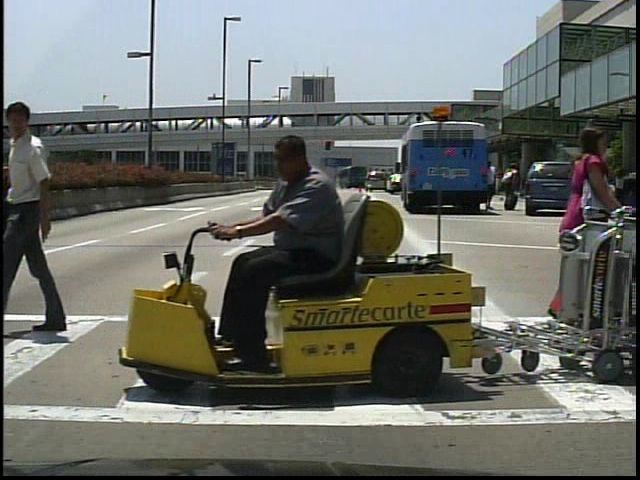person: (217, 134, 353, 373), (8, 100, 80, 337), (552, 121, 616, 353), (580, 163, 601, 214), (480, 162, 500, 215), (503, 164, 522, 217)
